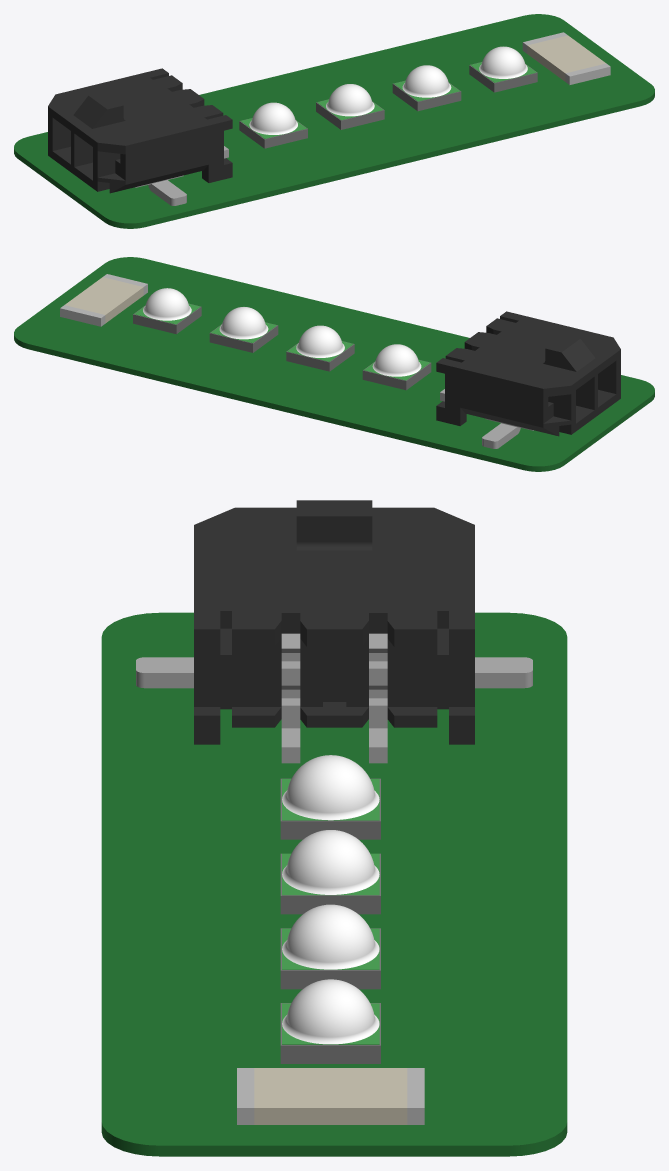
Rendered from sdi.glb.
3 views of the same model, one above another, from view 1: azimuth 30°, elevation 25°; view 2: azimuth 150°, elevation 25°; view 3: azimuth 270°, elevation 25° (orthographic). The views are drawn at different scales.
Visible parts, largest first — view 1: Open CASCADE STEP translator 7.5 3.1.1, P1, LED3, LED4, LED1, LED2, Extruded002, 6621xx145021_MASSE, Extruded001; view 2: Open CASCADE STEP translator 7.5 3.1.1, P1, LED1, LED3, LED2, LED4, Extruded002, 6621xx145021_MASSE001, Extruded; view 3: Open CASCADE STEP translator 7.5 3.1.1, P1, Extruded002, LED4, LED3, LED2, LED1, 6621xx145021_PIN001, 6621xx145021_PIN, 6621xx145021_MASSE, 6621xx145021_MASSE001, Extruded (+1 smaller).
Boxes of the visible parts, x1,y1,x2,y2 form: Open CASCADE STEP translator 7.5 3.1.1: (14, 14, 654, 228); P1: (48, 68, 232, 193); LED3: (392, 65, 461, 111); LED4: (469, 46, 537, 92); LED1: (239, 102, 307, 148); LED2: (316, 84, 384, 129); Extruded002: (527, 35, 605, 81); 6621xx145021_MASSE: (135, 175, 186, 205); Extruded001: (565, 63, 610, 84); Open CASCADE STEP translator 7.5 3.1.1: (14, 257, 654, 471); P1: (436, 311, 620, 436); LED1: (362, 344, 431, 390); LED3: (209, 307, 278, 352); LED2: (286, 325, 354, 371); LED4: (133, 288, 201, 334); Extruded002: (65, 277, 143, 323); 6621xx145021_MASSE001: (482, 418, 533, 448); Extruded: (60, 305, 105, 326); Open CASCADE STEP translator 7.5 3.1.1: (101, 612, 567, 1156); P1: (194, 500, 474, 744); Extruded002: (254, 1068, 407, 1124); LED4: (280, 979, 380, 1063); LED3: (280, 904, 380, 989); LED2: (280, 830, 380, 914); LED1: (280, 755, 380, 839); 6621xx145021_PIN001: (281, 633, 300, 763); 6621xx145021_PIN: (369, 633, 387, 763); 6621xx145021_MASSE: (136, 657, 193, 688); 6621xx145021_MASSE001: (475, 657, 532, 688); Extruded: (407, 1068, 424, 1124).
Size of the model in its own units: 0.0433 by 0.00602 by 0.016.
